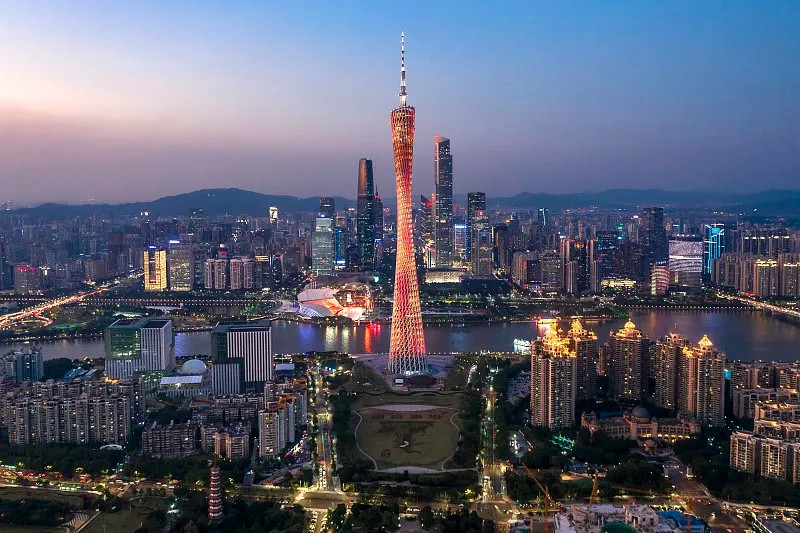Canton: (380, 27, 439, 377)
